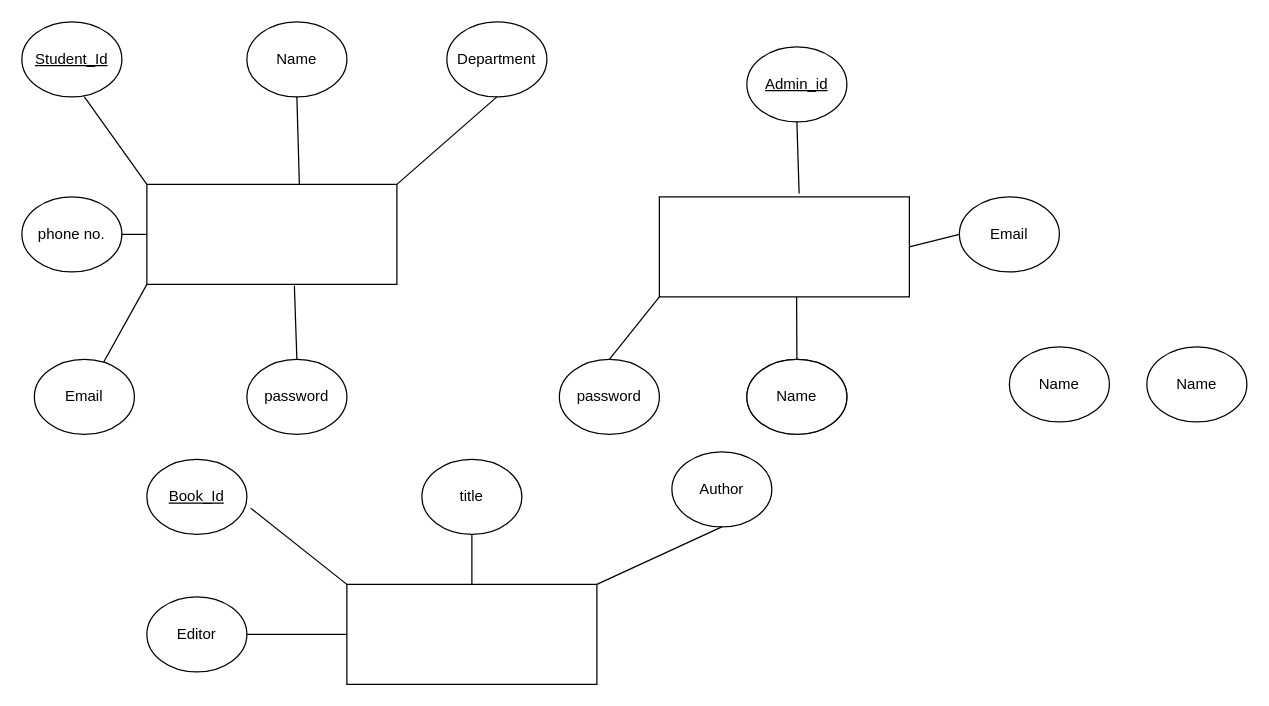
Some shapes in this 1269 by 706 pixel diagram are drawn without their labels. Here are the shapes that lost their labels. From the top down, the centre of each, then its label:
At (x=271, y=233): "Students".
At (x=783, y=246): "Admin".
At (x=471, y=633): "Book".
